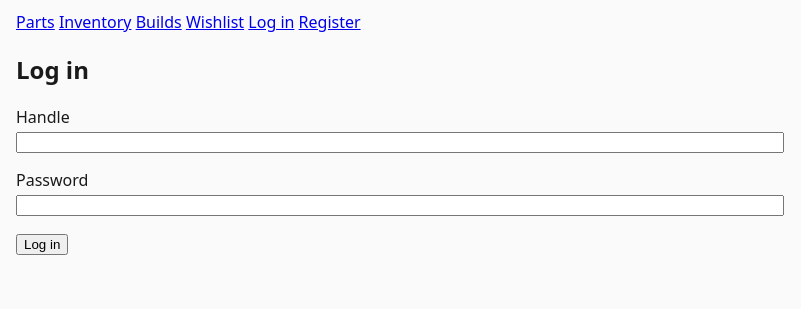
Test case: Login page › stays on the page and shows an alert with the right message on a 500
Type "moi" into the field labelled "Handle". click: (400, 142)
box: [16,132,784,153]
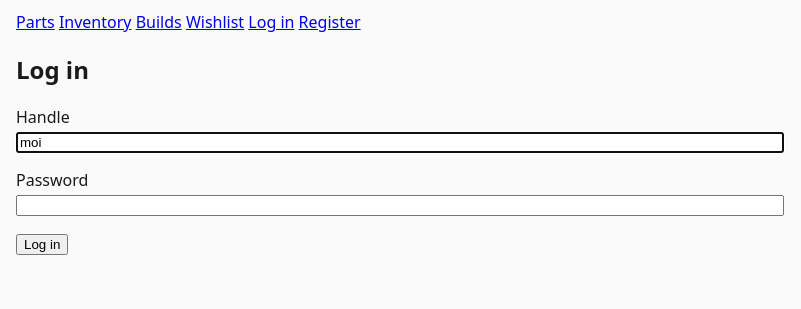
Type "mot-de-passe-test" into the password field labelled "Password". click: (400, 205)
box: [16,195,784,216]
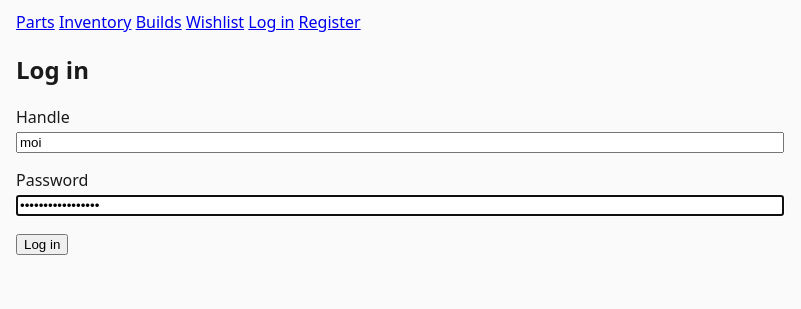
Click the button "Log in". click: (42, 244)
box: [16,234,68,255]
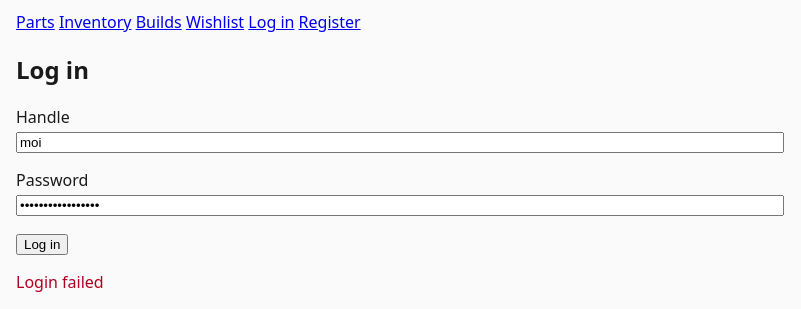
Expected: the heading "Log in" is shown, [16,53,89,86]
Result: the message reads "Login failed" at [16,271,104,293]
